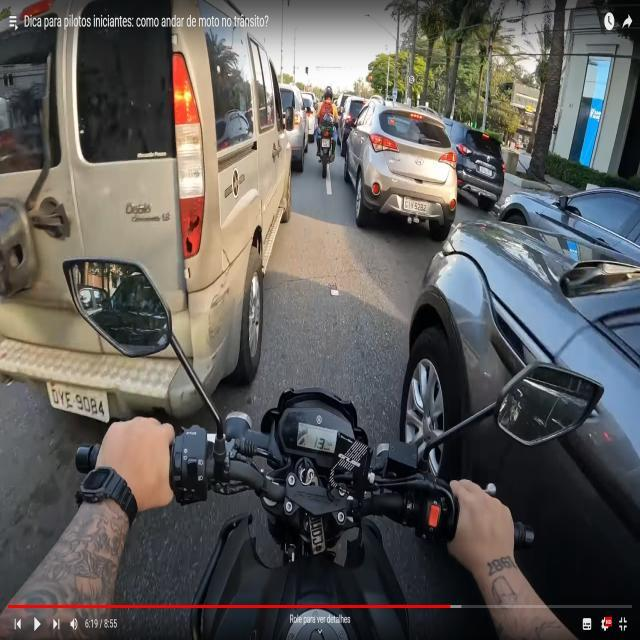Placa_mercosul_carro: (46, 382, 108, 422)
